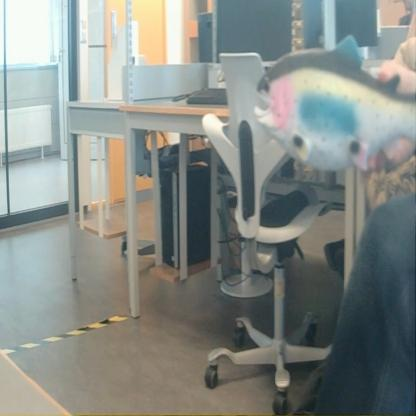rubberfish: (252, 28, 415, 177)
